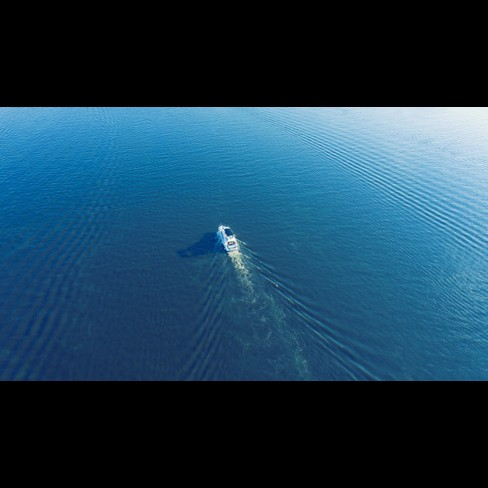boat: (212, 219, 249, 259)
